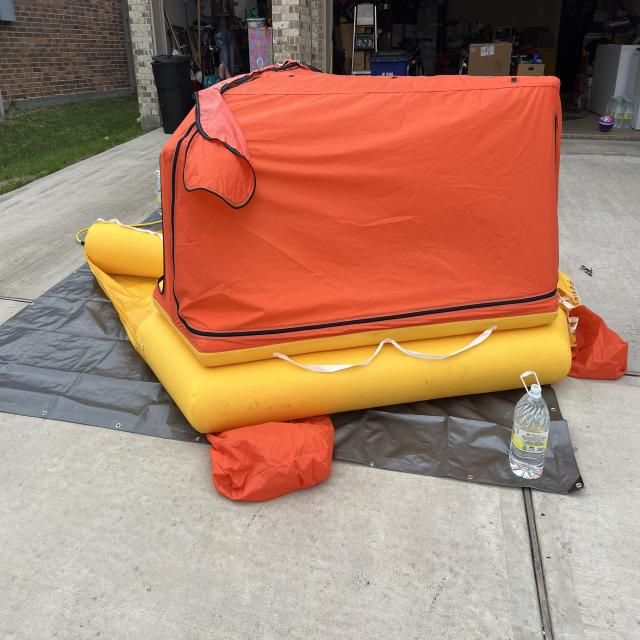Multi-person_life_raft: (85, 56, 627, 501)
